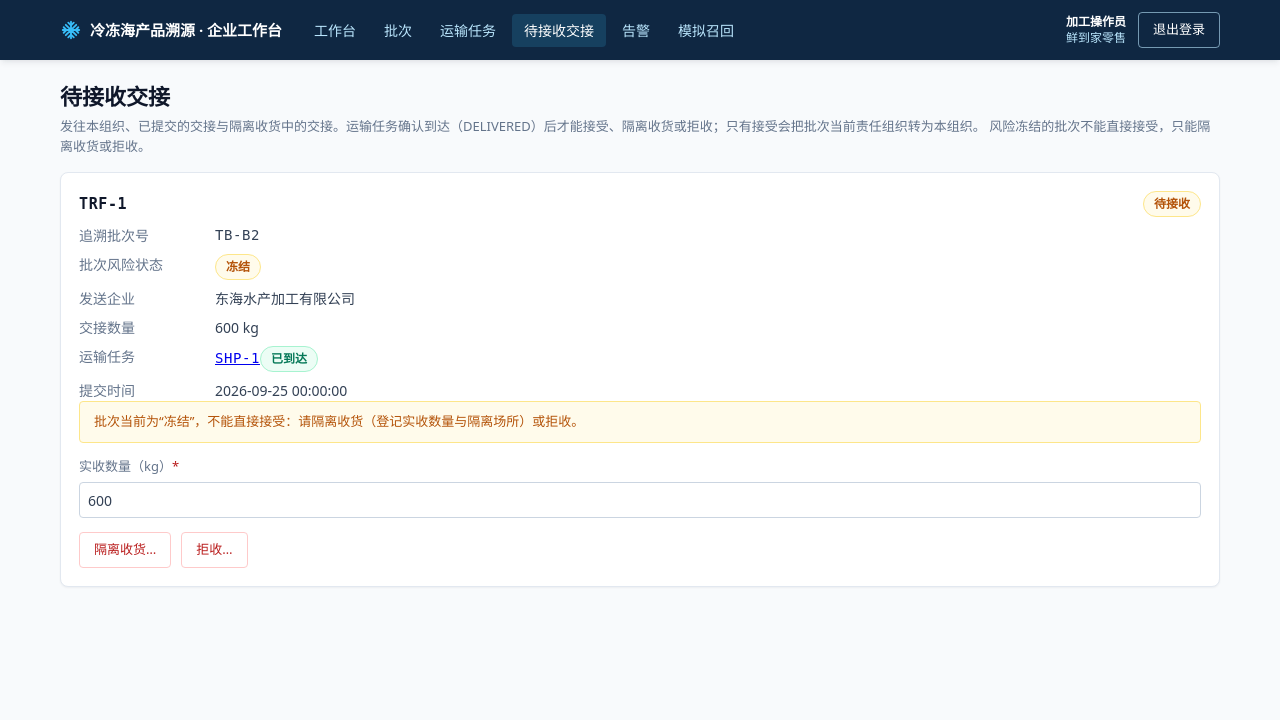
Scenario: InboundTransferListView (PB4) › blocks accepting a frozen batch and quarantines it after a second confirmation with a reason and an own site
This screenshot has width=1280, height=720.
Check: the message with test id "inbound-frozen-warning" shows "不能直接接受", box x1=94 y1=412 x2=584 y2=430
Step 1. Click the button with test id "start-quarantine-501" → (125, 550), box x1=79 y1=532 x2=171 y2=568
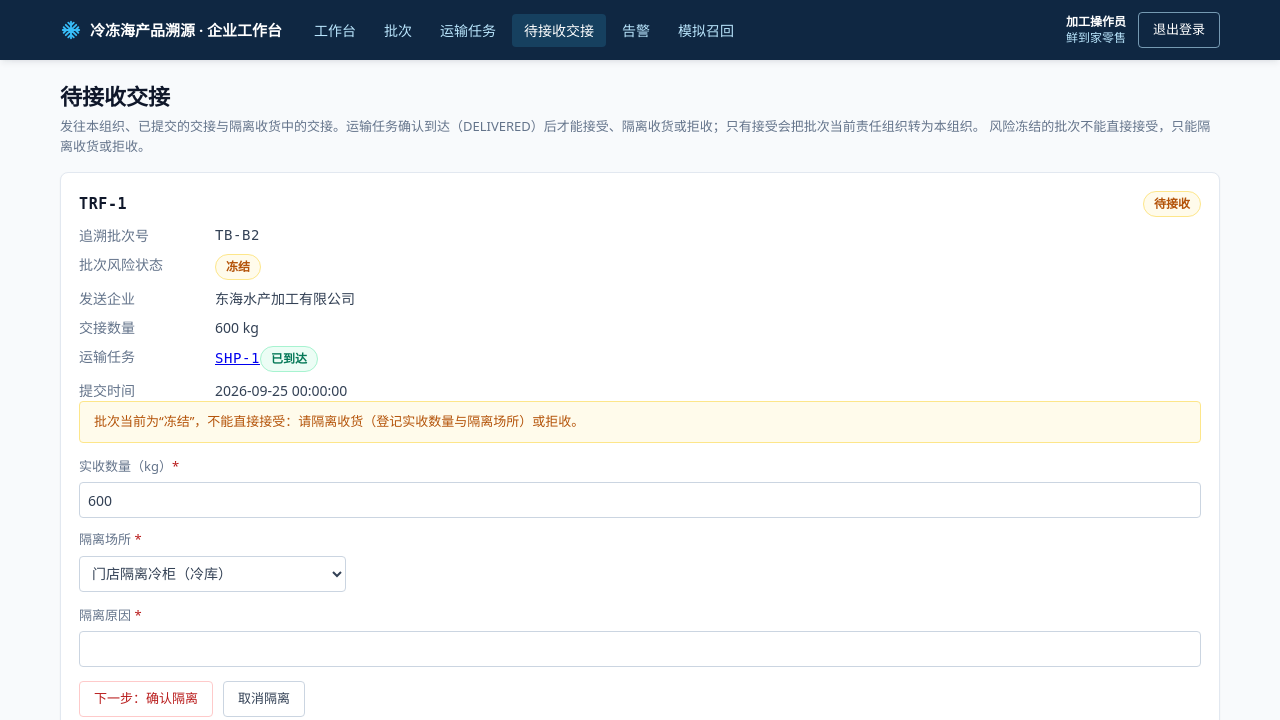
Step 2. Click the button with test id "quarantine-next-501" → (146, 699), box x1=79 y1=681 x2=213 y2=717
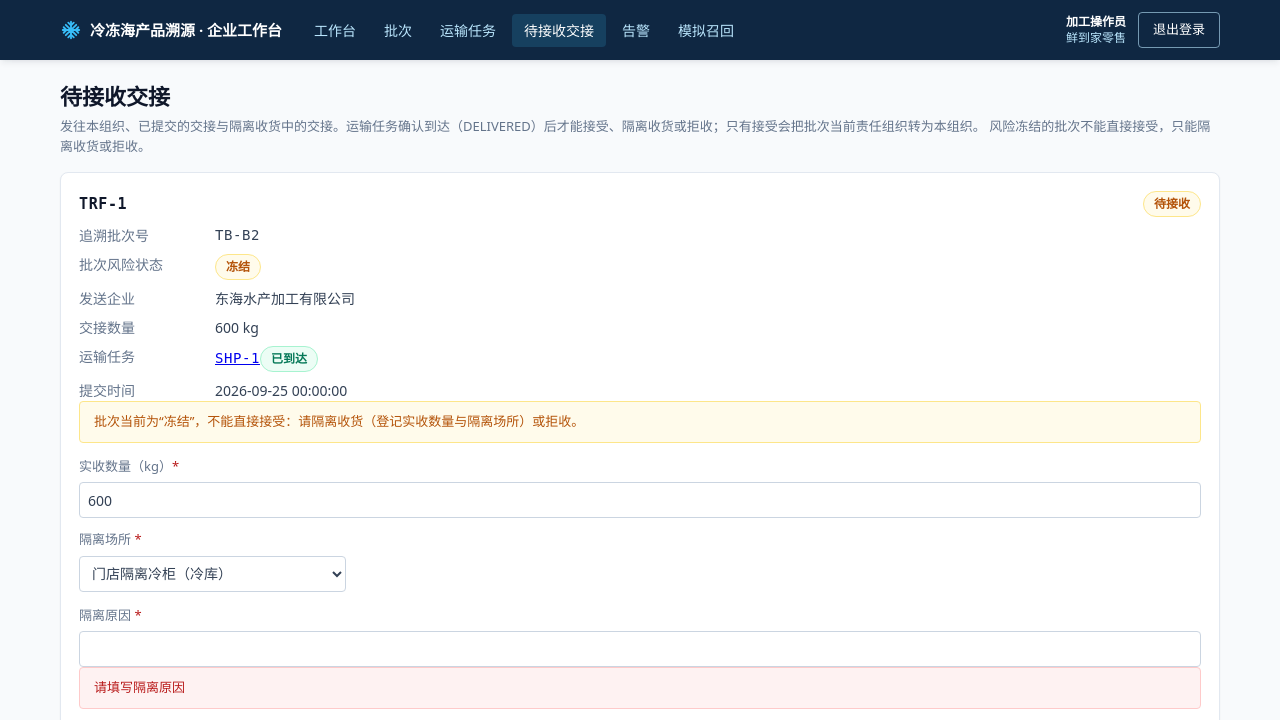
Check: the message with test id "inbound-error-501" reads "请填写隔离原因", box x1=94 y1=678 x2=185 y2=696
Step 3. Type "  到货随附持续超温告警，隔离待检  " into the field with test id "quarantine-reason-501" → (640, 649), box x1=79 y1=631 x2=1201 y2=667
(page scrolled)
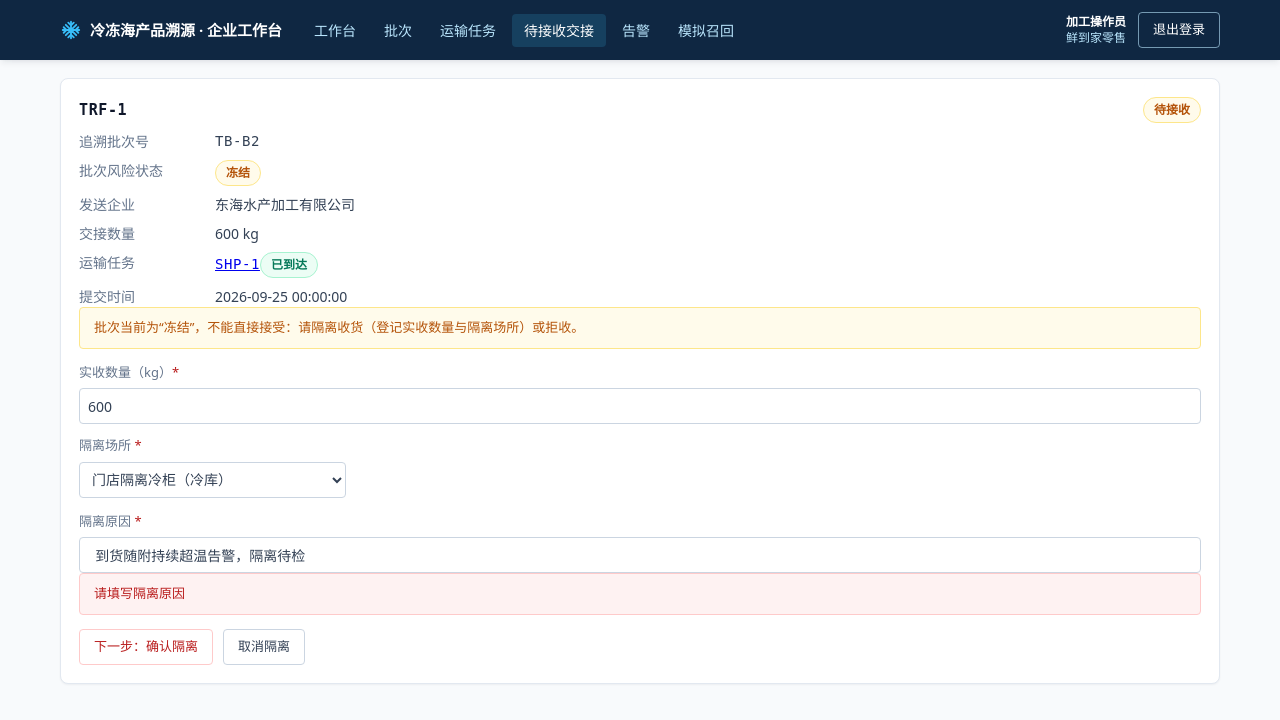
Step 4. Click the button with test id "quarantine-next-501" → (146, 646), box x1=79 y1=628 x2=213 y2=664
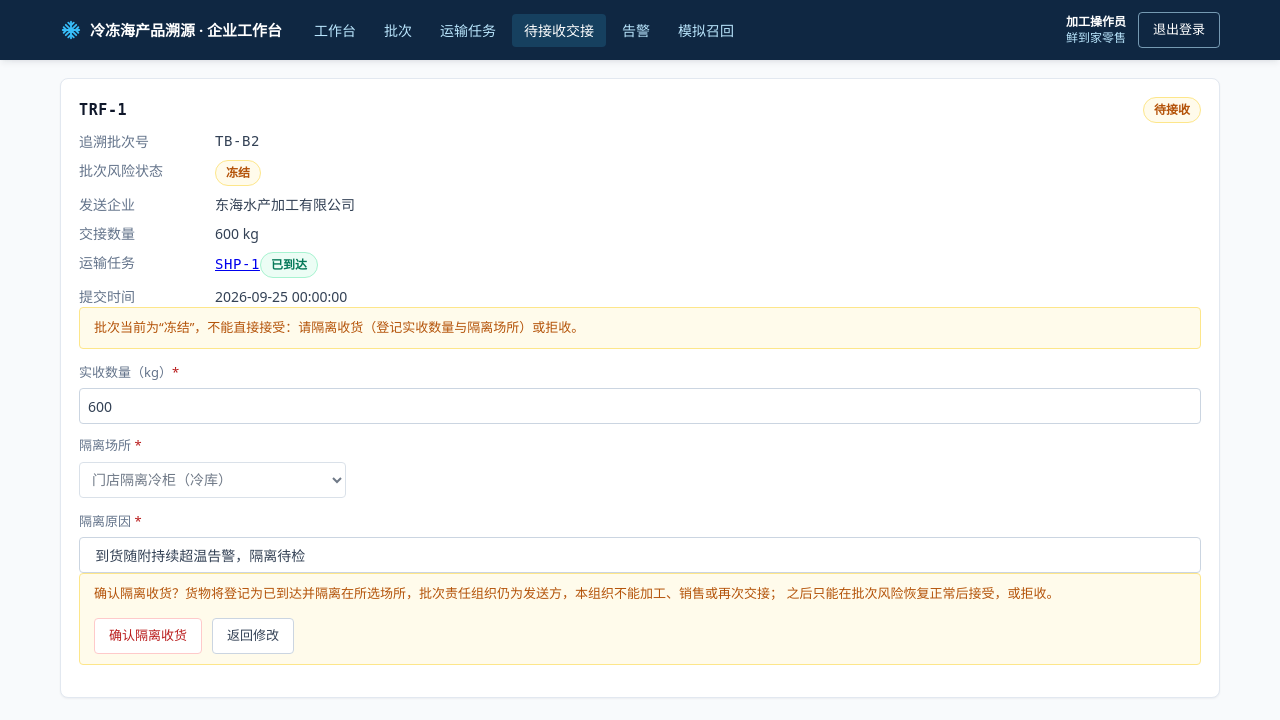
Check: the message with test id "quarantine-confirm-panel-501" shows "责任组织仍为发送方", box x1=94 y1=584 x2=1059 y2=602
Step 5. Click the button with test id "quarantine-confirm-501" → (148, 636), box x1=94 y1=618 x2=202 y2=654
(page scrolled)
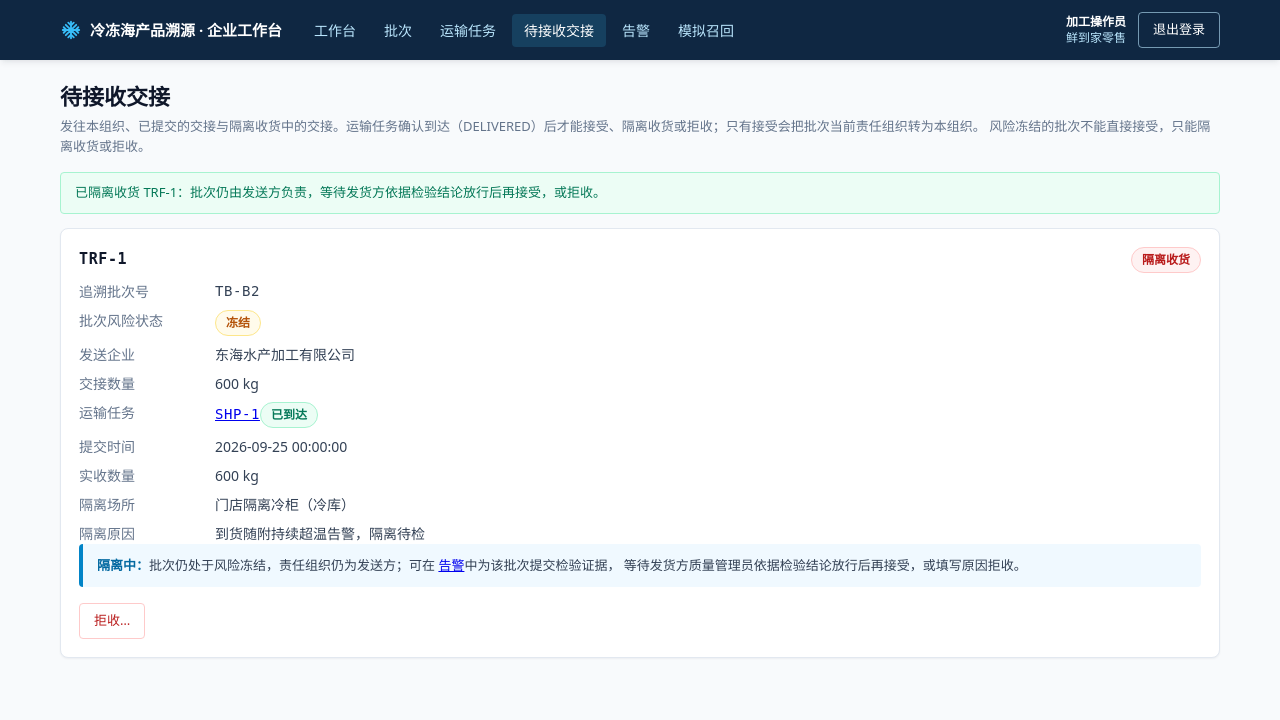
Check: the message with test id "inbound-flash" shows "批次仍由发送方负责", box x1=75 y1=183 x2=606 y2=201
Check: the element with test id "inbound-quarantine-waiting" shows "提交检验证据", box x1=464 y1=556 x2=1027 y2=574
Check: the button with test id "start-reject-501" is shown, box x1=79 y1=603 x2=145 y2=639
